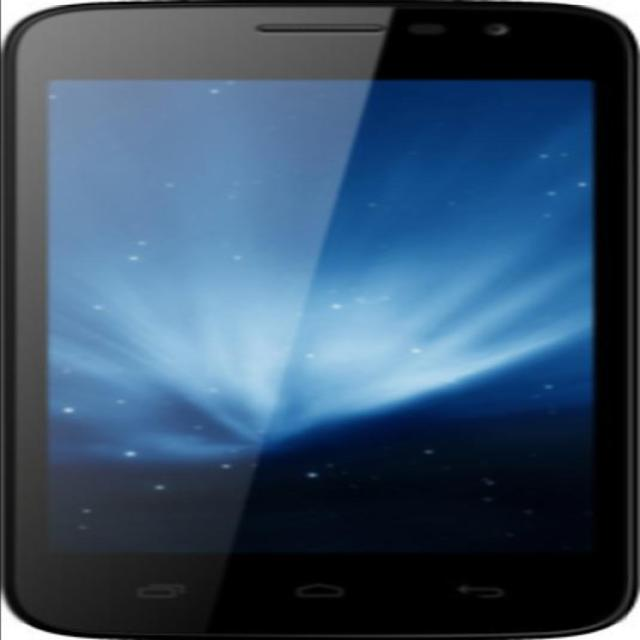handphone: (24, 9, 631, 640)
